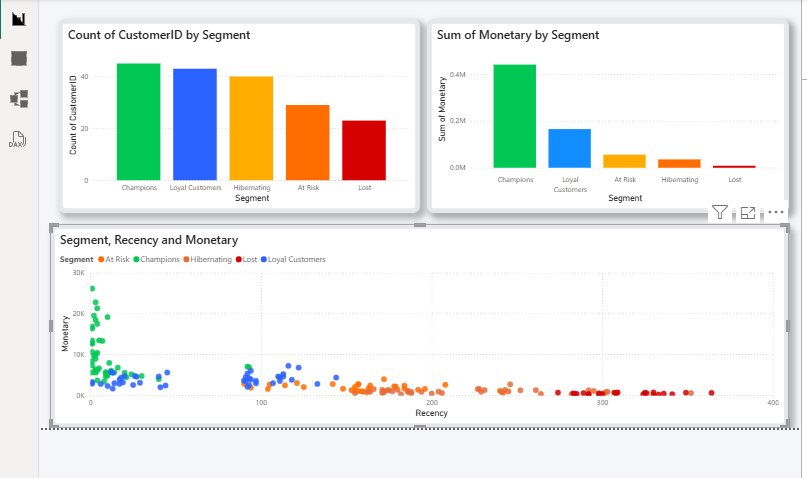

The page's visual inventory and layout, read from the dashboard file:
{"tool":"powerbi","page":{"name":"Page 1","canvas":[1280,720],"ordinal":0},"visuals":[{"type":"clusteredColumnChart","fields":{"Category":["rfm_segments.Segment"],"Y":["CountNonNull(rfm_segments.CustomerID)"]},"box":[31.9,33.6,608.1,325.9],"z":0},{"type":"clusteredColumnChart","fields":{"Category":["rfm_segments.Segment"],"Y":["Sum(rfm_segments.Monetary)"]},"box":[651.8,33.6,608.1,325.9],"z":1000},{"type":"scatterChart","fields":{"X":["rfm_segments.Recency"],"Y":["rfm_segments.Monetary"],"Series":["rfm_segments.Segment"]},"box":[18.5,378,1241.4,342.7],"z":2000}]}

Visuals, with their boxes in screenshot pixels (x1, y1, x2, y2):
clusteredColumnChart - rfm_segments.Segment x CountNonNull(rfm_segments.CustomerID): bbox=[61, 14, 426, 209]
clusteredColumnChart - rfm_segments.Segment x Sum(rfm_segments.Monetary): bbox=[433, 14, 798, 209]
scatterChart - rfm_segments.Recency x rfm_segments.Monetary: bbox=[53, 220, 798, 426]
